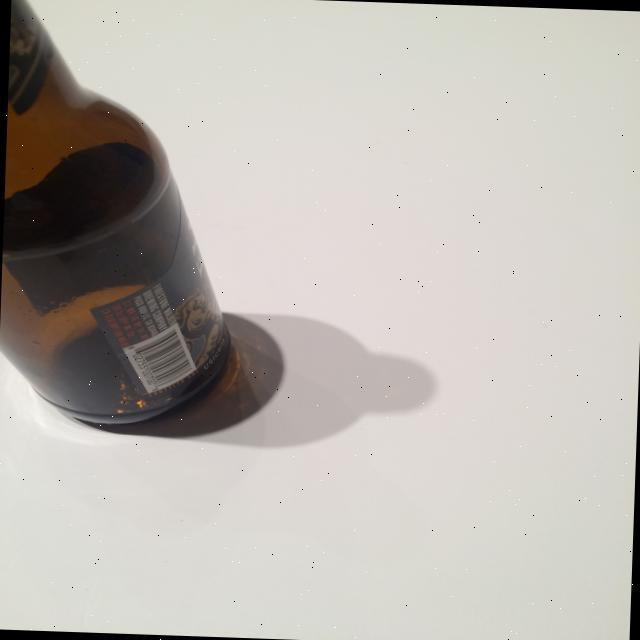glass: (0, 0, 245, 429)
